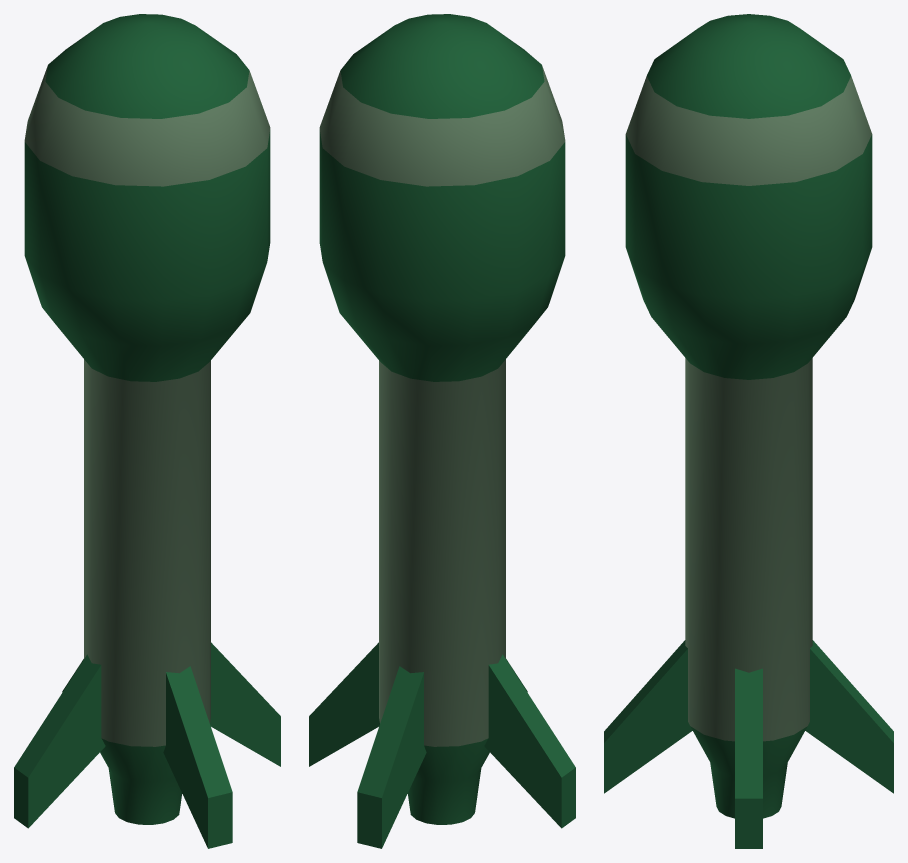
The model's file is rocket_2.fbx.
3 views of the same model, side by side, from view 1: azimuth 30°, elevation 25°; view 2: azimuth 150°, elevation 25°; view 3: azimuth 270°, elevation 25° (orthographic).
Visible parts, largest first — view 1: rocket_2; view 2: rocket_2; view 3: rocket_2.
Part boxes in pixels (bbox=[...]): rocket_2: bbox=[14, 14, 280, 848]; rocket_2: bbox=[309, 14, 575, 848]; rocket_2: bbox=[604, 14, 893, 848].
Size of the model in its own units: 86.91 by 259 by 86.91.
